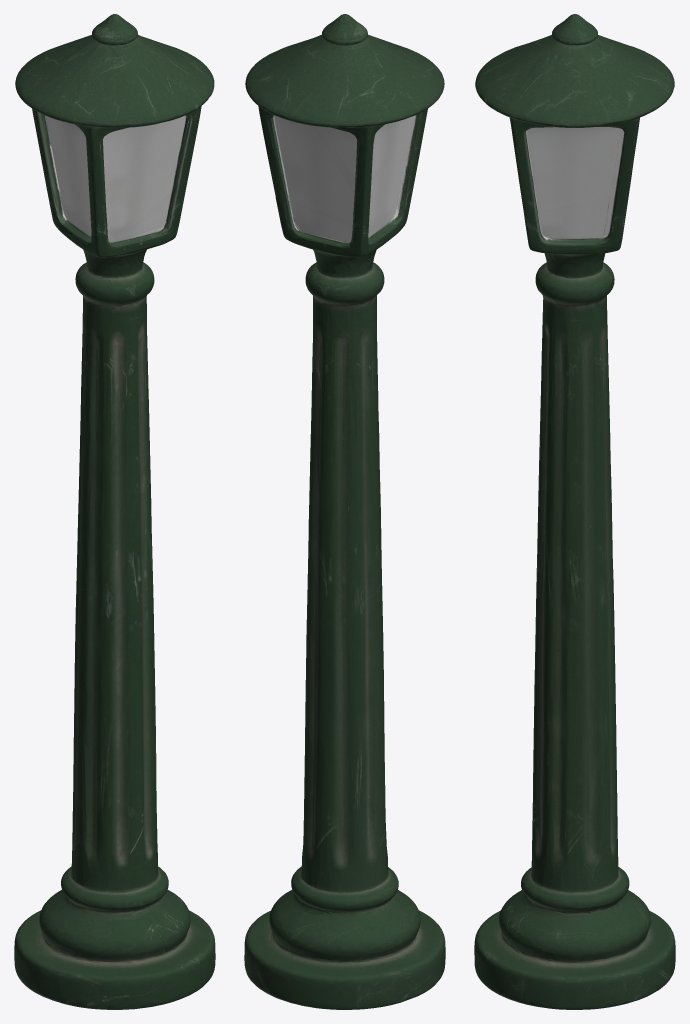
Rendered from lampione.glb.
3 renders of one model, left to right at view 1: azimuth 30°, elevation 25°; view 2: azimuth 150°, elevation 25°; view 3: azimuth 270°, elevation 25°, orthographic.
Visible parts, largest first — view 1: Mesh_0; view 2: Mesh_0; view 3: Mesh_0.
Part boxes in pixels (bbox=[...]): Mesh_0: bbox=[14, 14, 215, 1009]; Mesh_0: bbox=[244, 14, 445, 1009]; Mesh_0: bbox=[474, 14, 675, 1009].
Bounding box in the file's own units: 0.3635 × 1.9 × 0.3633.
Materials: 1 (1 with a texture image).
